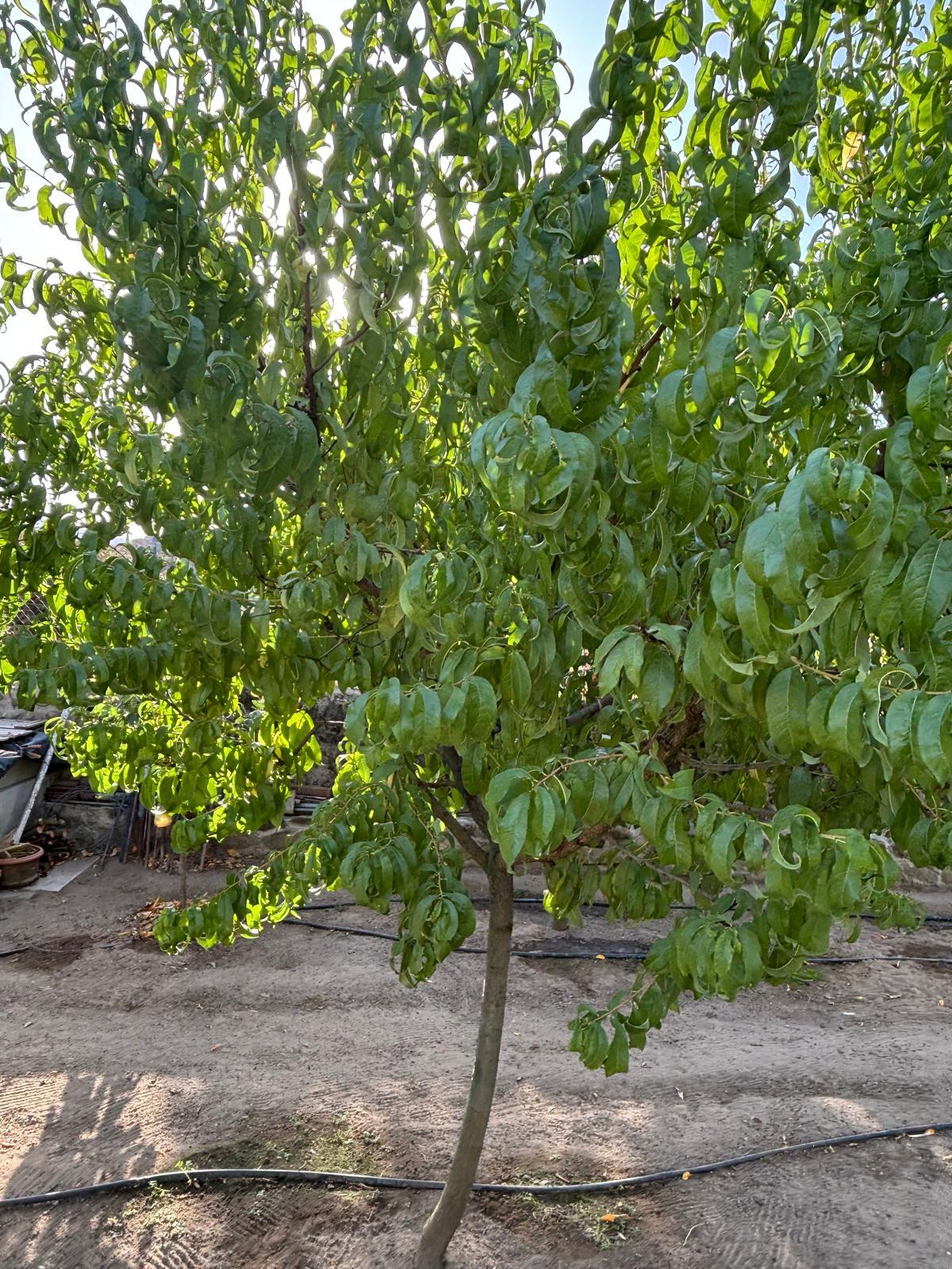melocotonero: (69, 122, 774, 1261)
